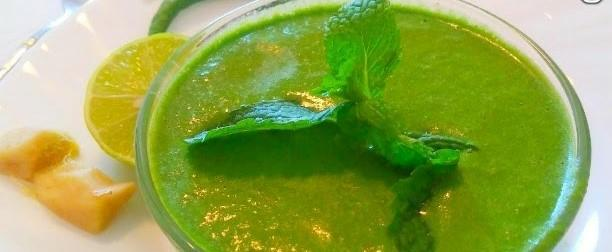GreenChutney: (152, 5, 570, 252)
